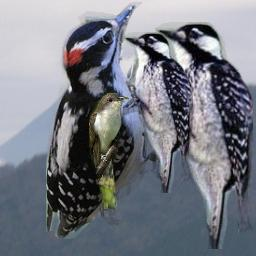Cuckoo: (89, 89, 129, 209)
Woodpecker: (46, 2, 174, 239), (155, 22, 253, 249), (123, 32, 193, 193)
